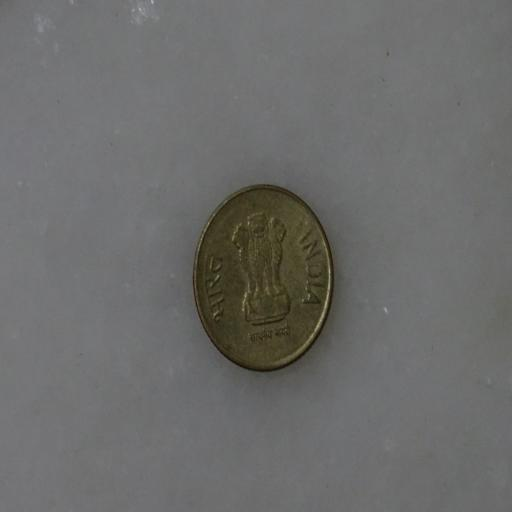rupee5: (188, 183, 335, 376)
